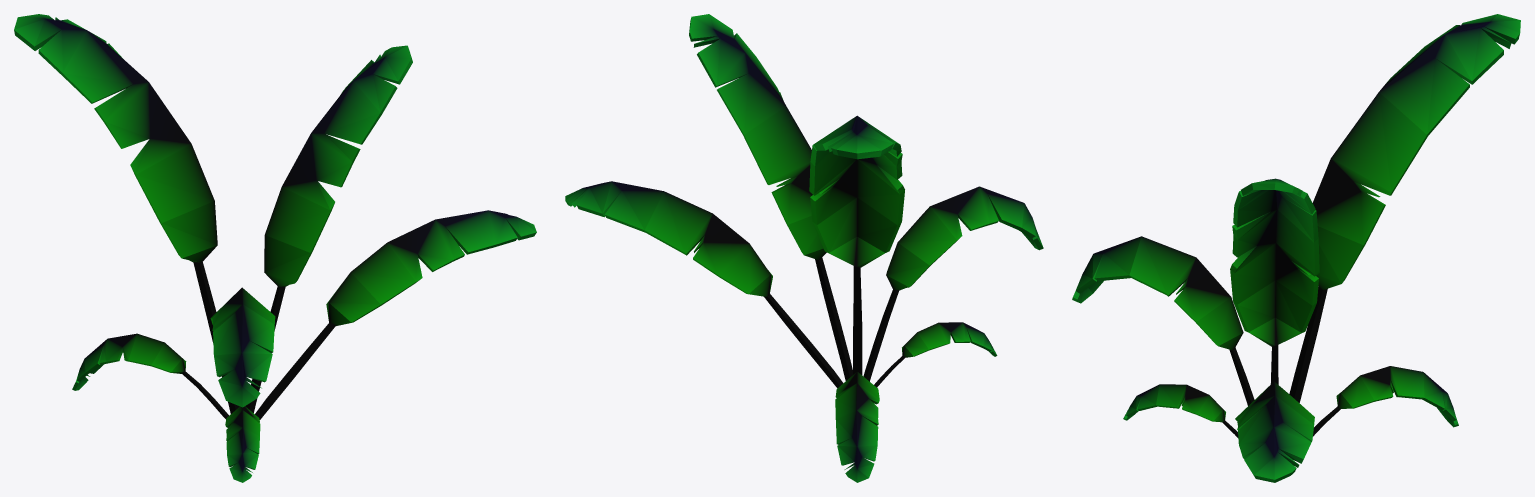
Rendered from ShrubFernTall01.fbx.
3 renders of one model, left to right at view 1: azimuth 30°, elevation 25°; view 2: azimuth 150°, elevation 25°; view 3: azimuth 270°, elevation 25°, orthographic. The views are drawn at different scales.
Visible parts, largest first — view 1: ShrubFernTall01_LOD0; view 2: ShrubFernTall01_LOD0; view 3: ShrubFernTall01_LOD0.
Part boxes in pixels (x1,y1,x2,y2): ShrubFernTall01_LOD0: [14, 14, 536, 482]; ShrubFernTall01_LOD0: [565, 14, 1043, 482]; ShrubFernTall01_LOD0: [1072, 14, 1520, 482].
Size of what is drawn, in the model's own units: 219 by 182 by 186.
